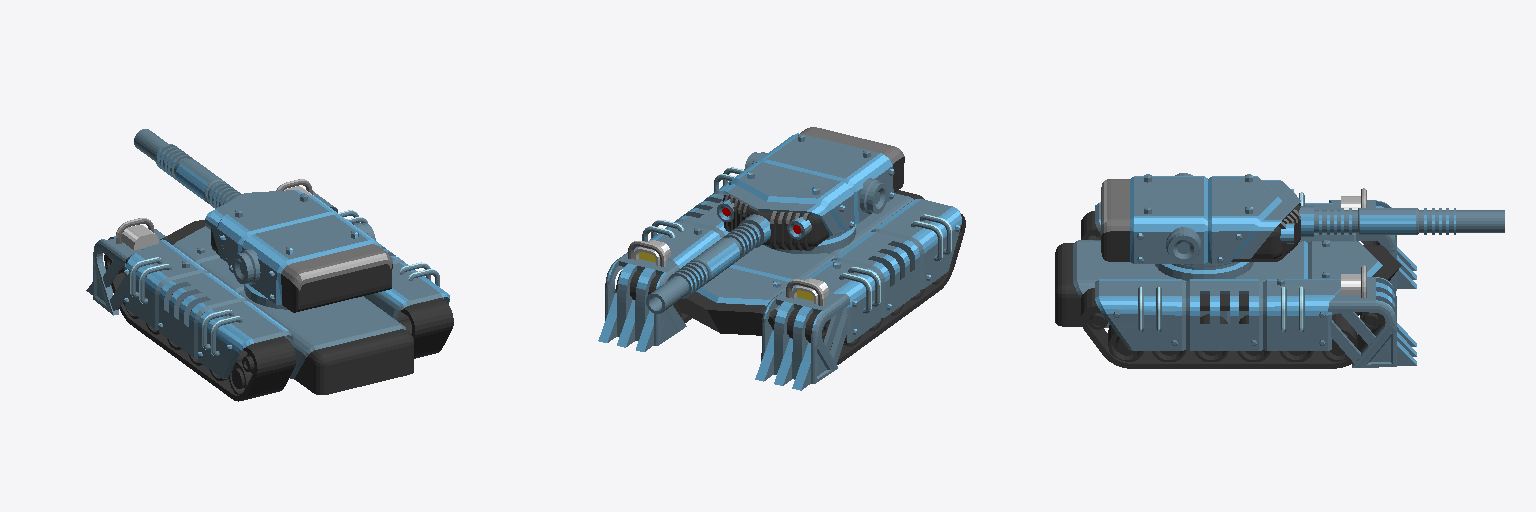
The model's file is tank.obj.
The picture shows the model from 3 angles: view 1: azimuth 30°, elevation 25°; view 2: azimuth 150°, elevation 25°; view 3: azimuth 270°, elevation 25°; orthographic projection.
Visible parts, largest first — view 1: body, head; view 2: body, head; view 3: body, head.
Boxes of the visible parts, <box> form: body: <box>86,179,453,401</box>; head: <box>134,129,392,312</box>; body: <box>598,167,965,390</box>; head: <box>646,127,904,313</box>; body: <box>1055,188,1416,368</box>; head: <box>1101,173,1504,280</box>.
Bounding box in the file's own units: 1.29 × 0.6969 × 2.19.